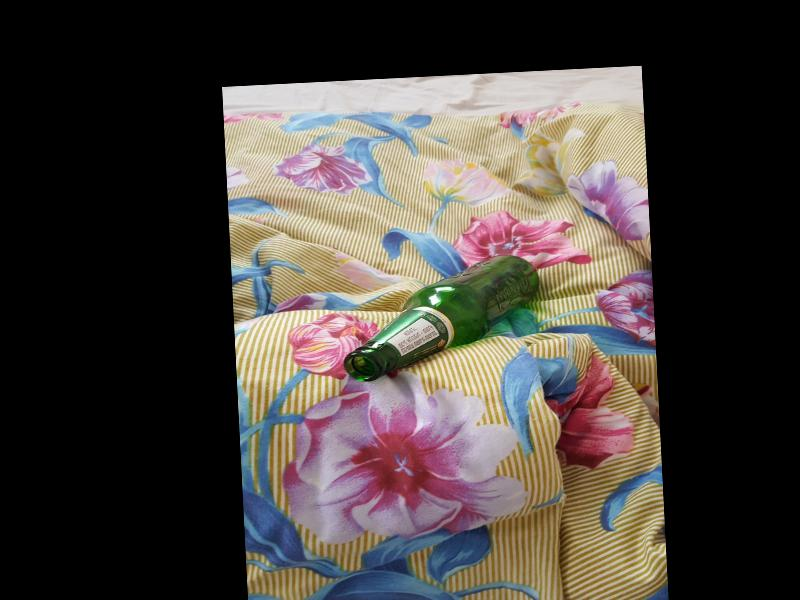Beer: (339, 254, 541, 383)
